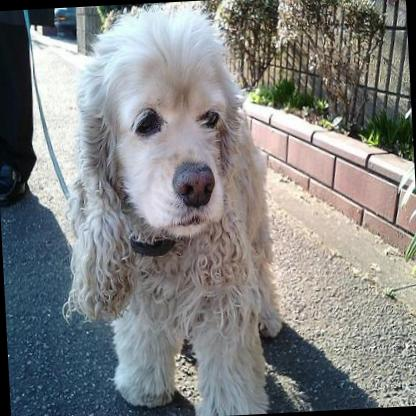cocker_spaniel: (44, 0, 287, 416)
